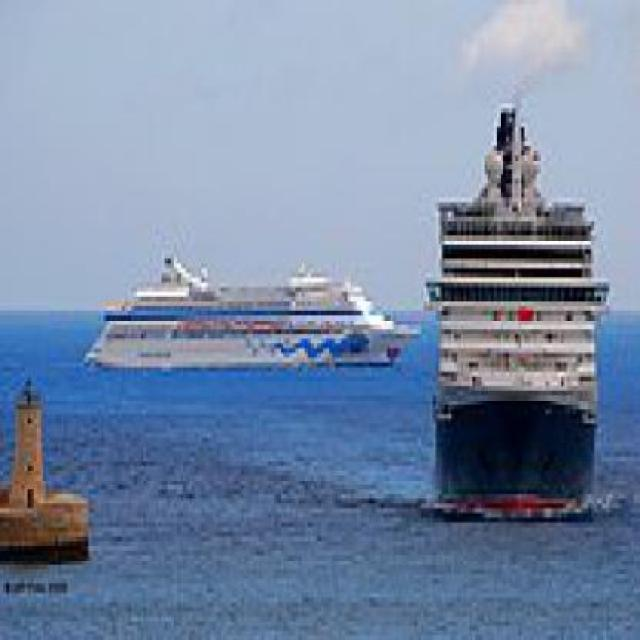cruise: (421, 91, 626, 534), (71, 241, 431, 387)
